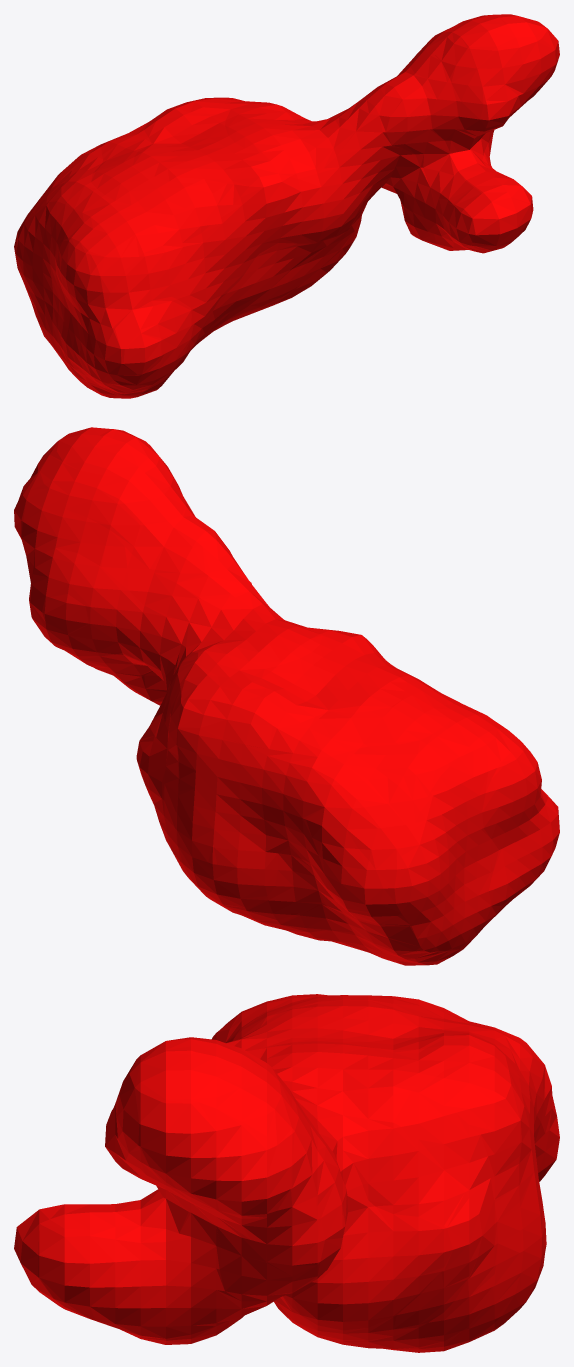
File: raiA_coarse.dae
The picture shows the model from 3 angles, top to bottom: view 1: azimuth 30°, elevation 25°; view 2: azimuth 150°, elevation 25°; view 3: azimuth 270°, elevation 25°; orthographic projection. The views are drawn at different scales.
Parts seen in each view (by area): view 1: raiA; view 2: raiA; view 3: raiA.
Boxes of the visible parts, box(x1,y1,x2,y2) form: raiA: box(14, 14, 559, 398); raiA: box(14, 427, 559, 965); raiA: box(14, 994, 559, 1352).
Bounding box in the file's own units: 60.43 × 42.34 × 41.51.
